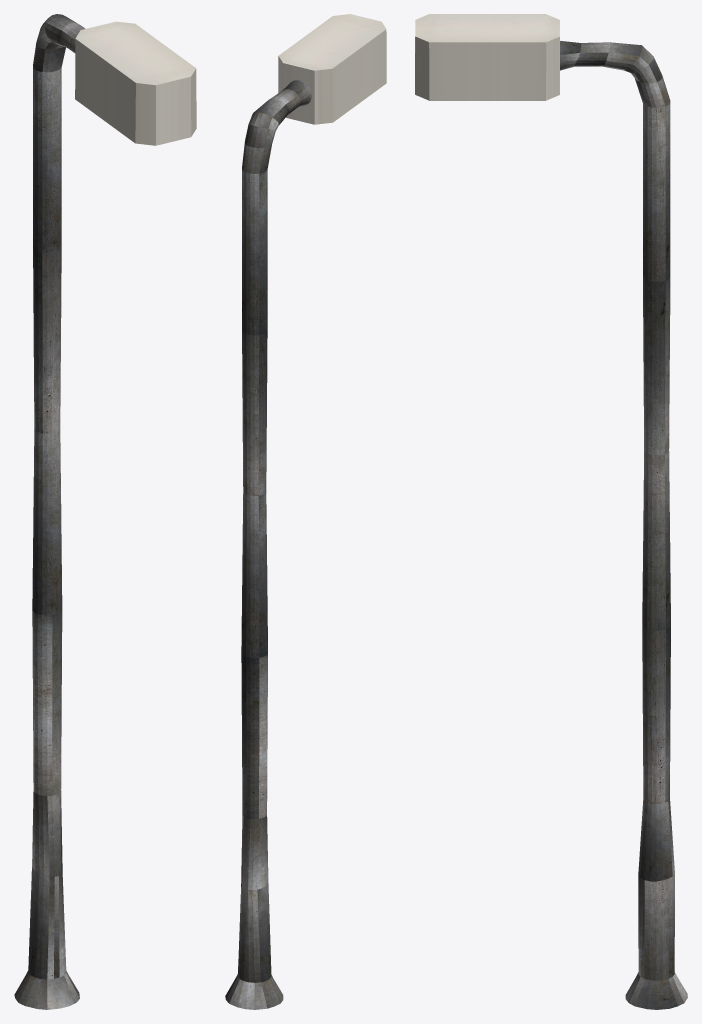
The model's file is farola_j.FBX.
3 renders of one model, left to right at view 1: azimuth 30°, elevation 25°; view 2: azimuth 150°, elevation 25°; view 3: azimuth 270°, elevation 25°, orthographic. The views are drawn at different scales.
Visible parts, largest first — view 1: Farola; view 2: Farola; view 3: Farola.
Part boxes in pixels (<box>): Farola: <box>14,14,196,1009</box>; Farola: <box>225,14,386,1009</box>; Farola: <box>415,14,687,1009</box>.
Bounding box in the file's own units: 53.11 × 834 × 213.
